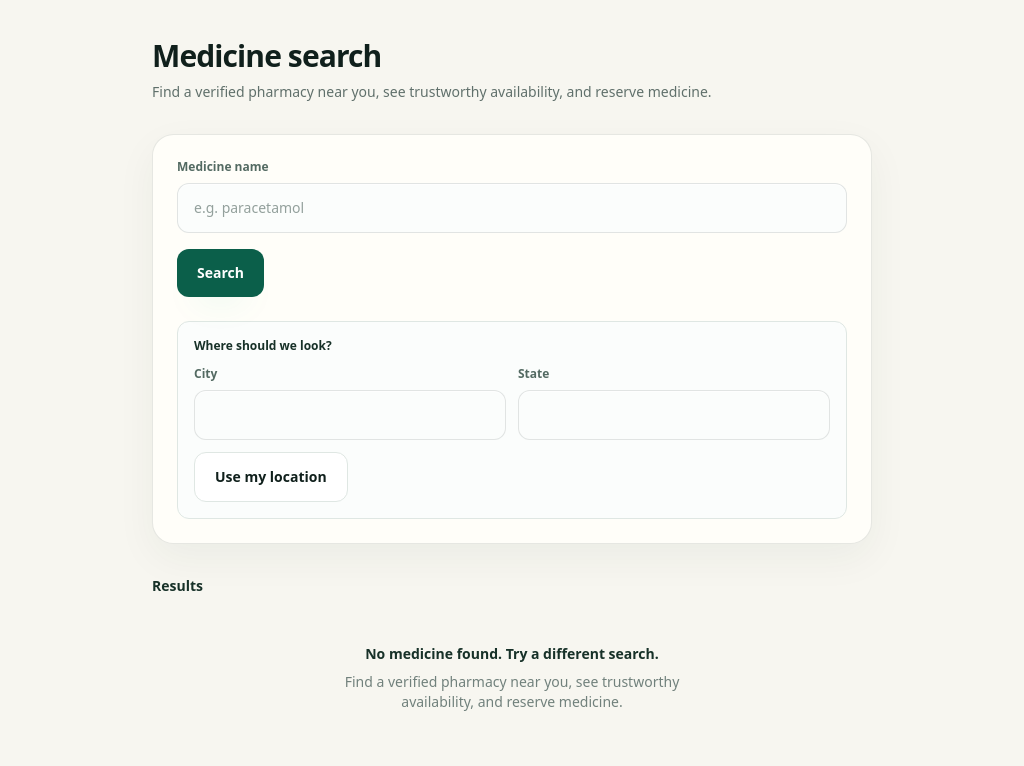
PatientMedicinesWorkspace › performs a bounded manual search and can reserve an AVAILABLE result
Step 1. Type "paracetamol" into the field labelled "Medicine name" → (512, 208), box [177,183,847,233]
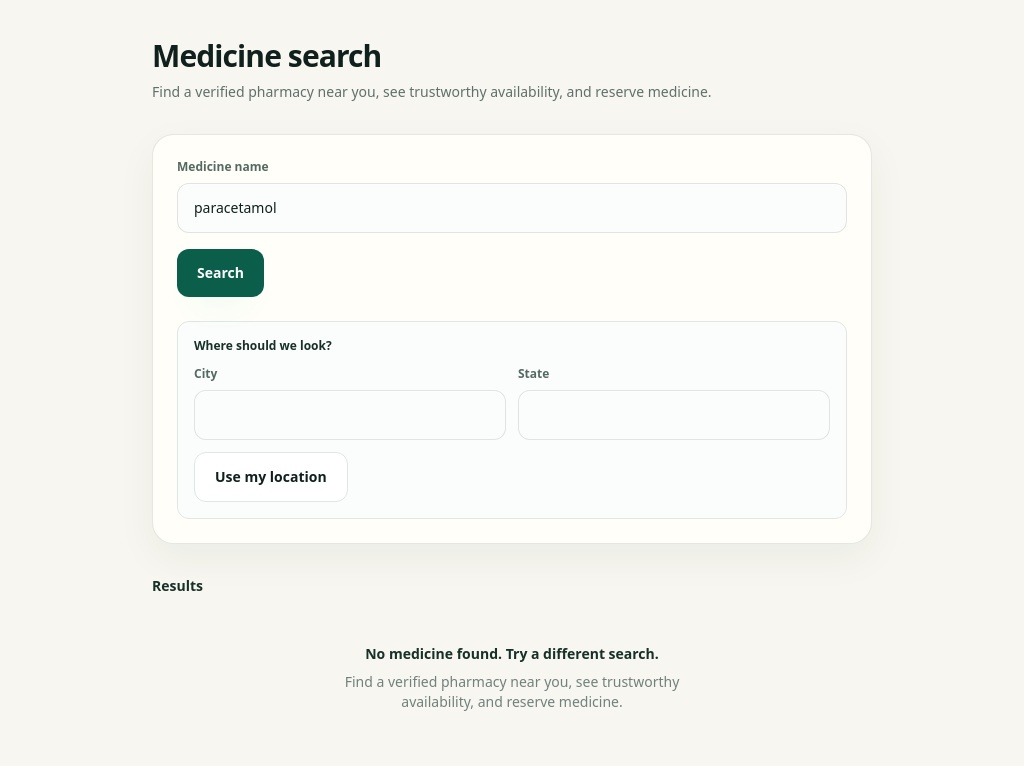
Step 2. Type "Bengaluru" into the field labelled "City" → (350, 415), box [194,390,506,440]
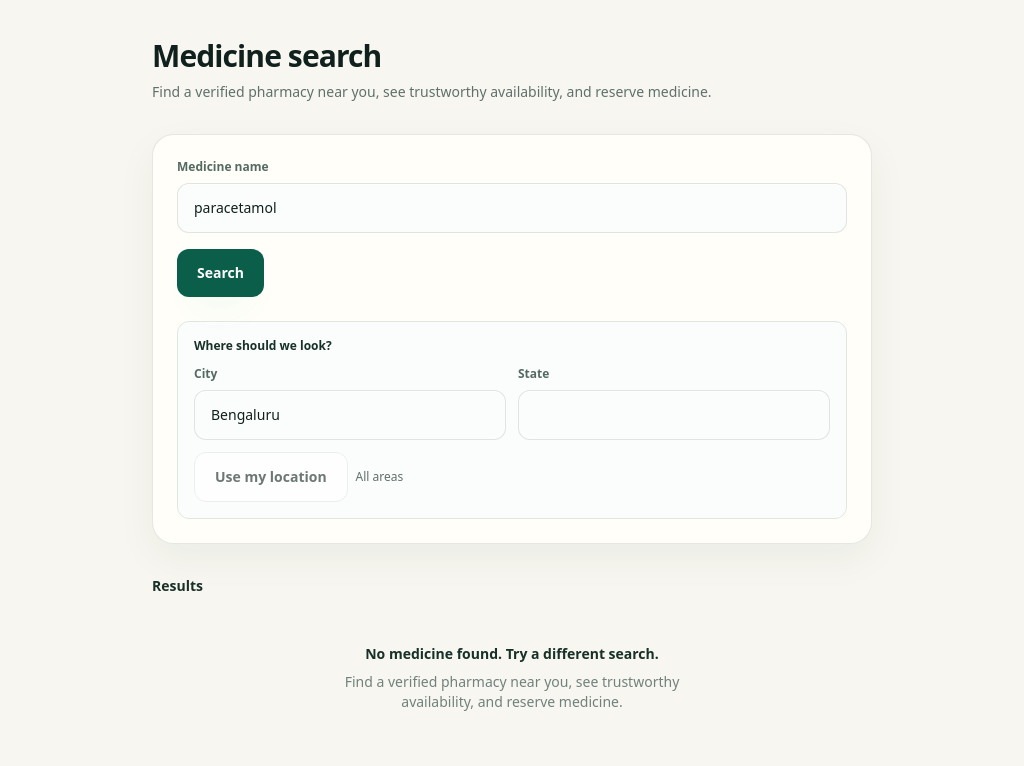
Step 3. Type "Karnataka" into the field labelled "State" → (674, 415), box [518,390,830,440]
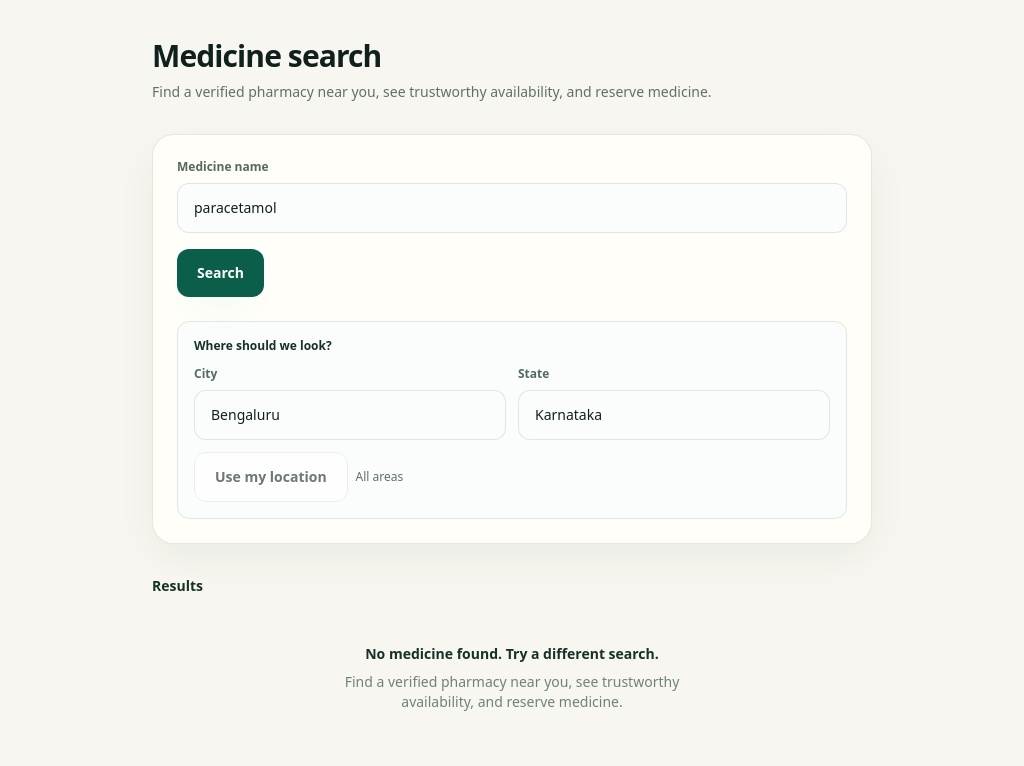
Step 4. Click the button "Search" → click(220, 273), box [177,249,264,297]
(page scrolled)
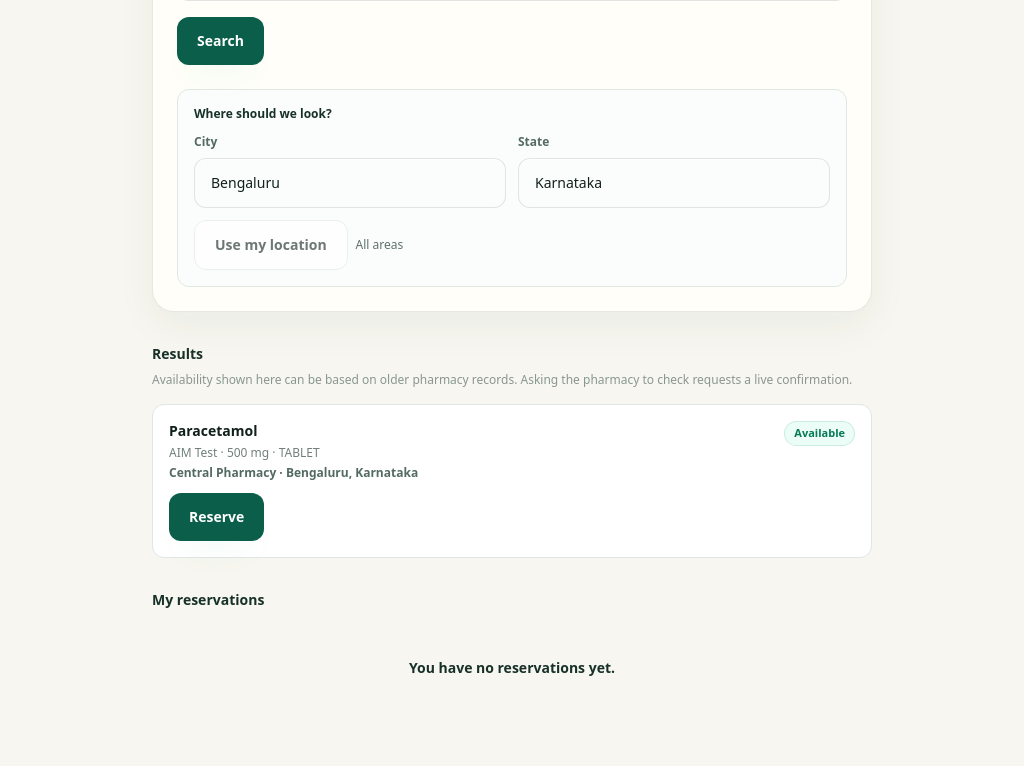
Expected: the text "Paracetamol" is shown, [169,421,258,440]
Step 5. Click the button "Reserve" → click(217, 517), box [169,493,264,541]
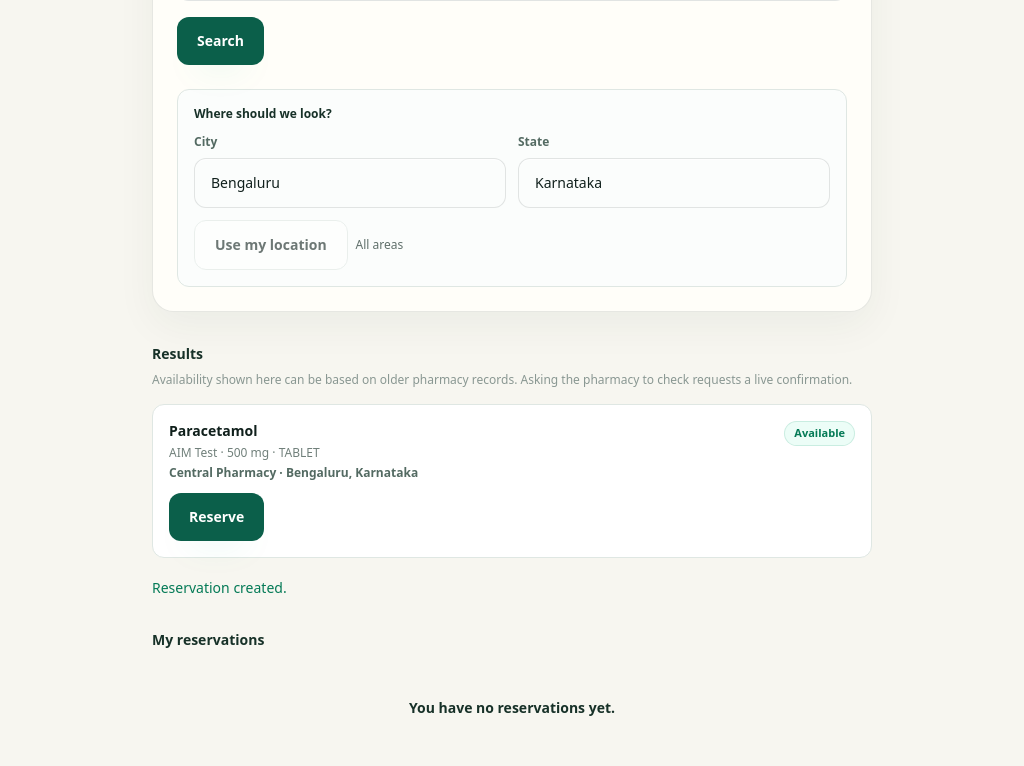
Expected: the text "Reservation created." is shown, [152,578,287,597]
